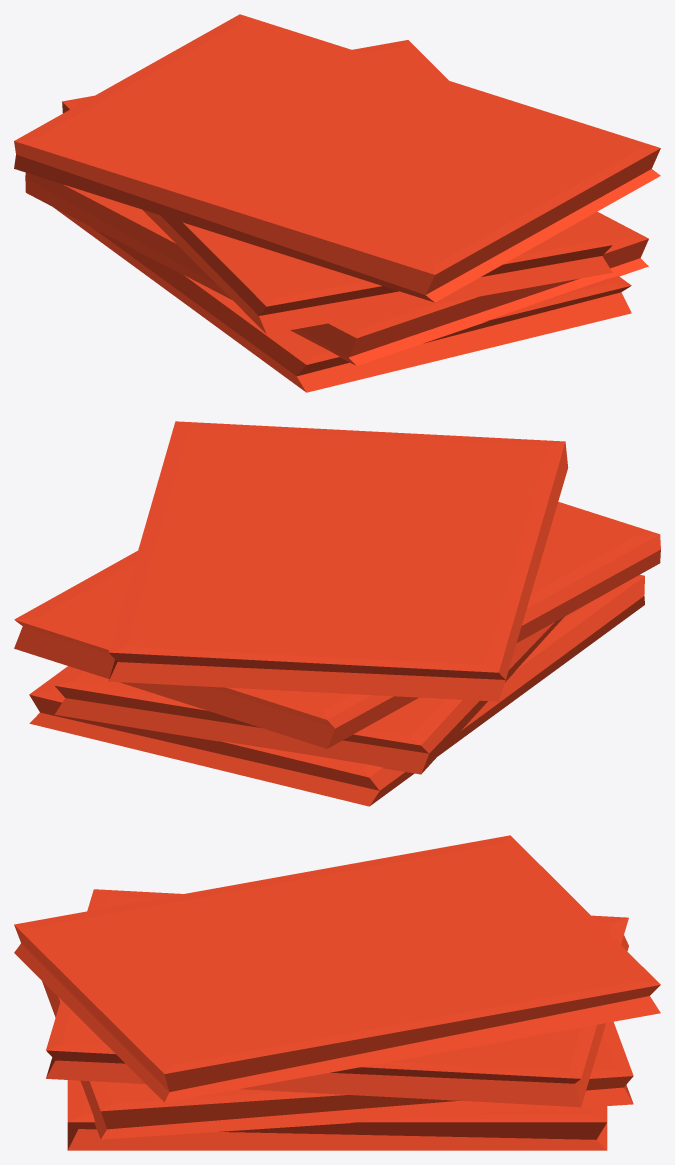
File: SM_Newspaper_C_Pile_City.fbx
3 renders of one model, top to bottom at view 1: azimuth 30°, elevation 25°; view 2: azimuth 150°, elevation 25°; view 3: azimuth 270°, elevation 25°, orthographic. The views are drawn at different scales.
Parts seen in each view (by area): view 1: SM_Newspaper_C_Pile_City; view 2: SM_Newspaper_C_Pile_City; view 3: SM_Newspaper_C_Pile_City.
Boxes of the visible parts, box(x1,y1,x2,y2) form: SM_Newspaper_C_Pile_City: box(14, 14, 660, 392); SM_Newspaper_C_Pile_City: box(14, 421, 660, 806); SM_Newspaper_C_Pile_City: box(14, 835, 660, 1150).
Bounding box in the file's own units: 0.4071 × 0.0915 × 0.4638.
